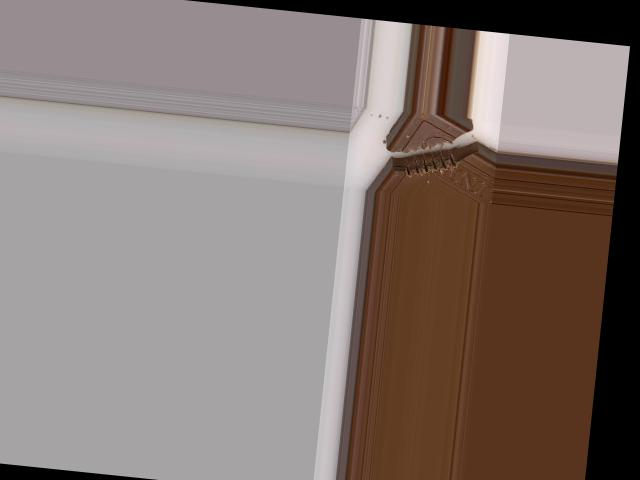chocolate: (365, 107, 499, 202)
